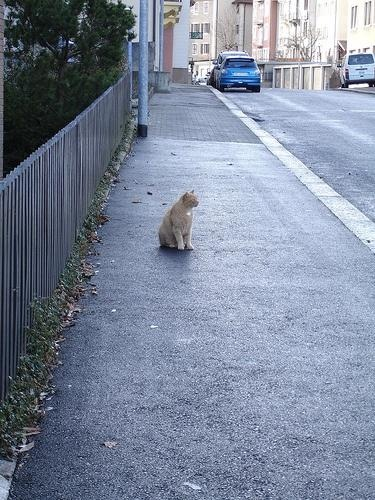car: (220, 58, 264, 92), (214, 51, 250, 86), (342, 53, 375, 88)
cat: (161, 191, 200, 252)
